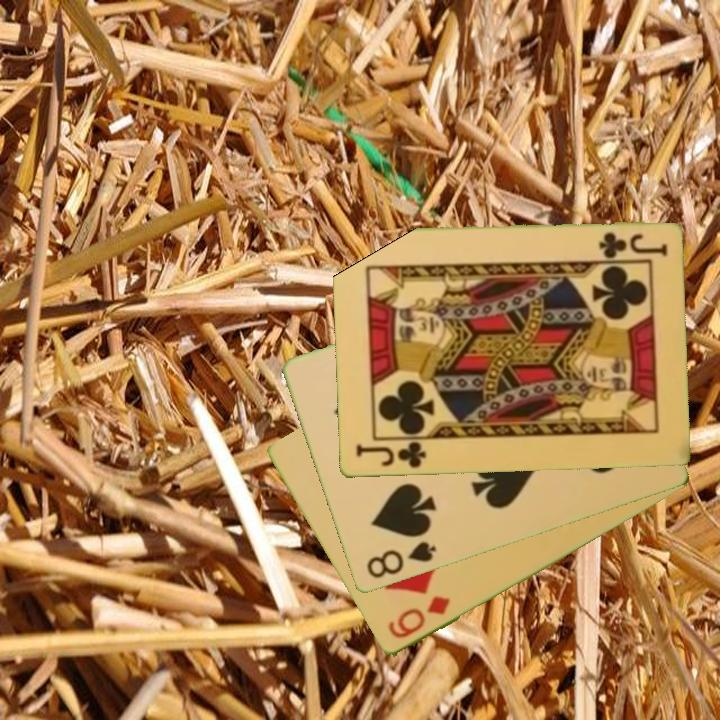6d: (384, 592, 453, 642)
8s: (362, 538, 439, 582)
Jc: (351, 438, 429, 472), (595, 229, 670, 259)
